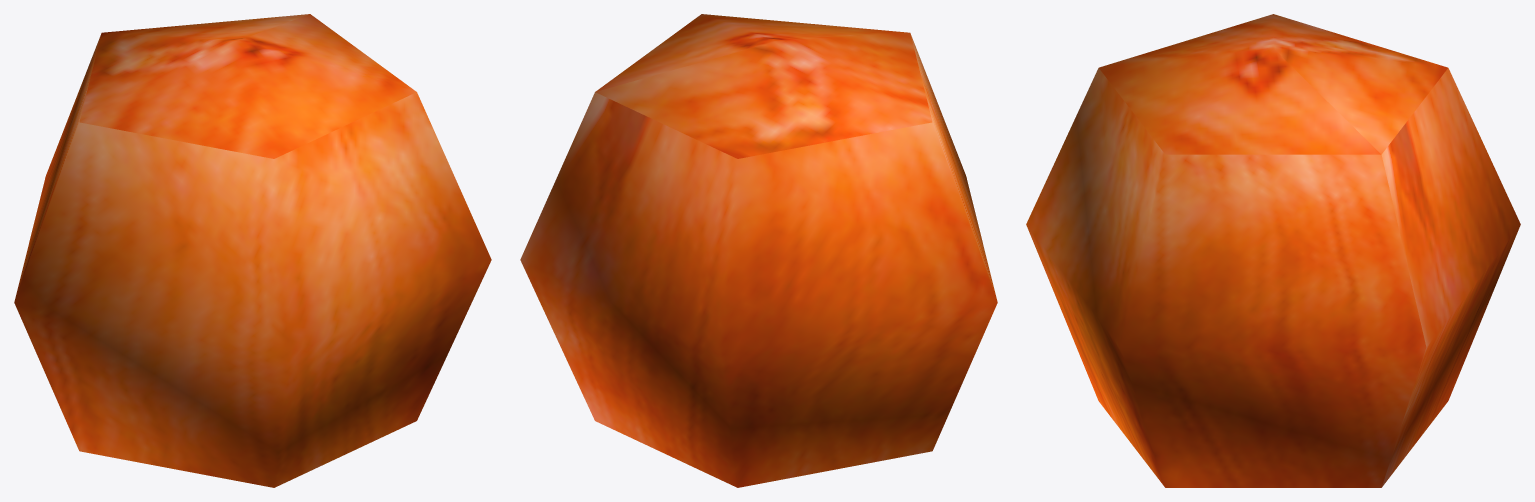
Rendered from onion.fbx.
3 renders of one model, left to right at view 1: azimuth 30°, elevation 25°; view 2: azimuth 150°, elevation 25°; view 3: azimuth 270°, elevation 25°, orthographic.
Visible parts, largest first — view 1: onion; view 2: onion; view 3: onion.
Boxes of the visible parts, x1,y1,x2,y2 form: onion: (14, 14, 491, 487); onion: (520, 14, 997, 487); onion: (1026, 14, 1520, 487).
Bounding box in the file's own units: 18.09 × 17.58 × 19.02.
1 material, 1 textured.
